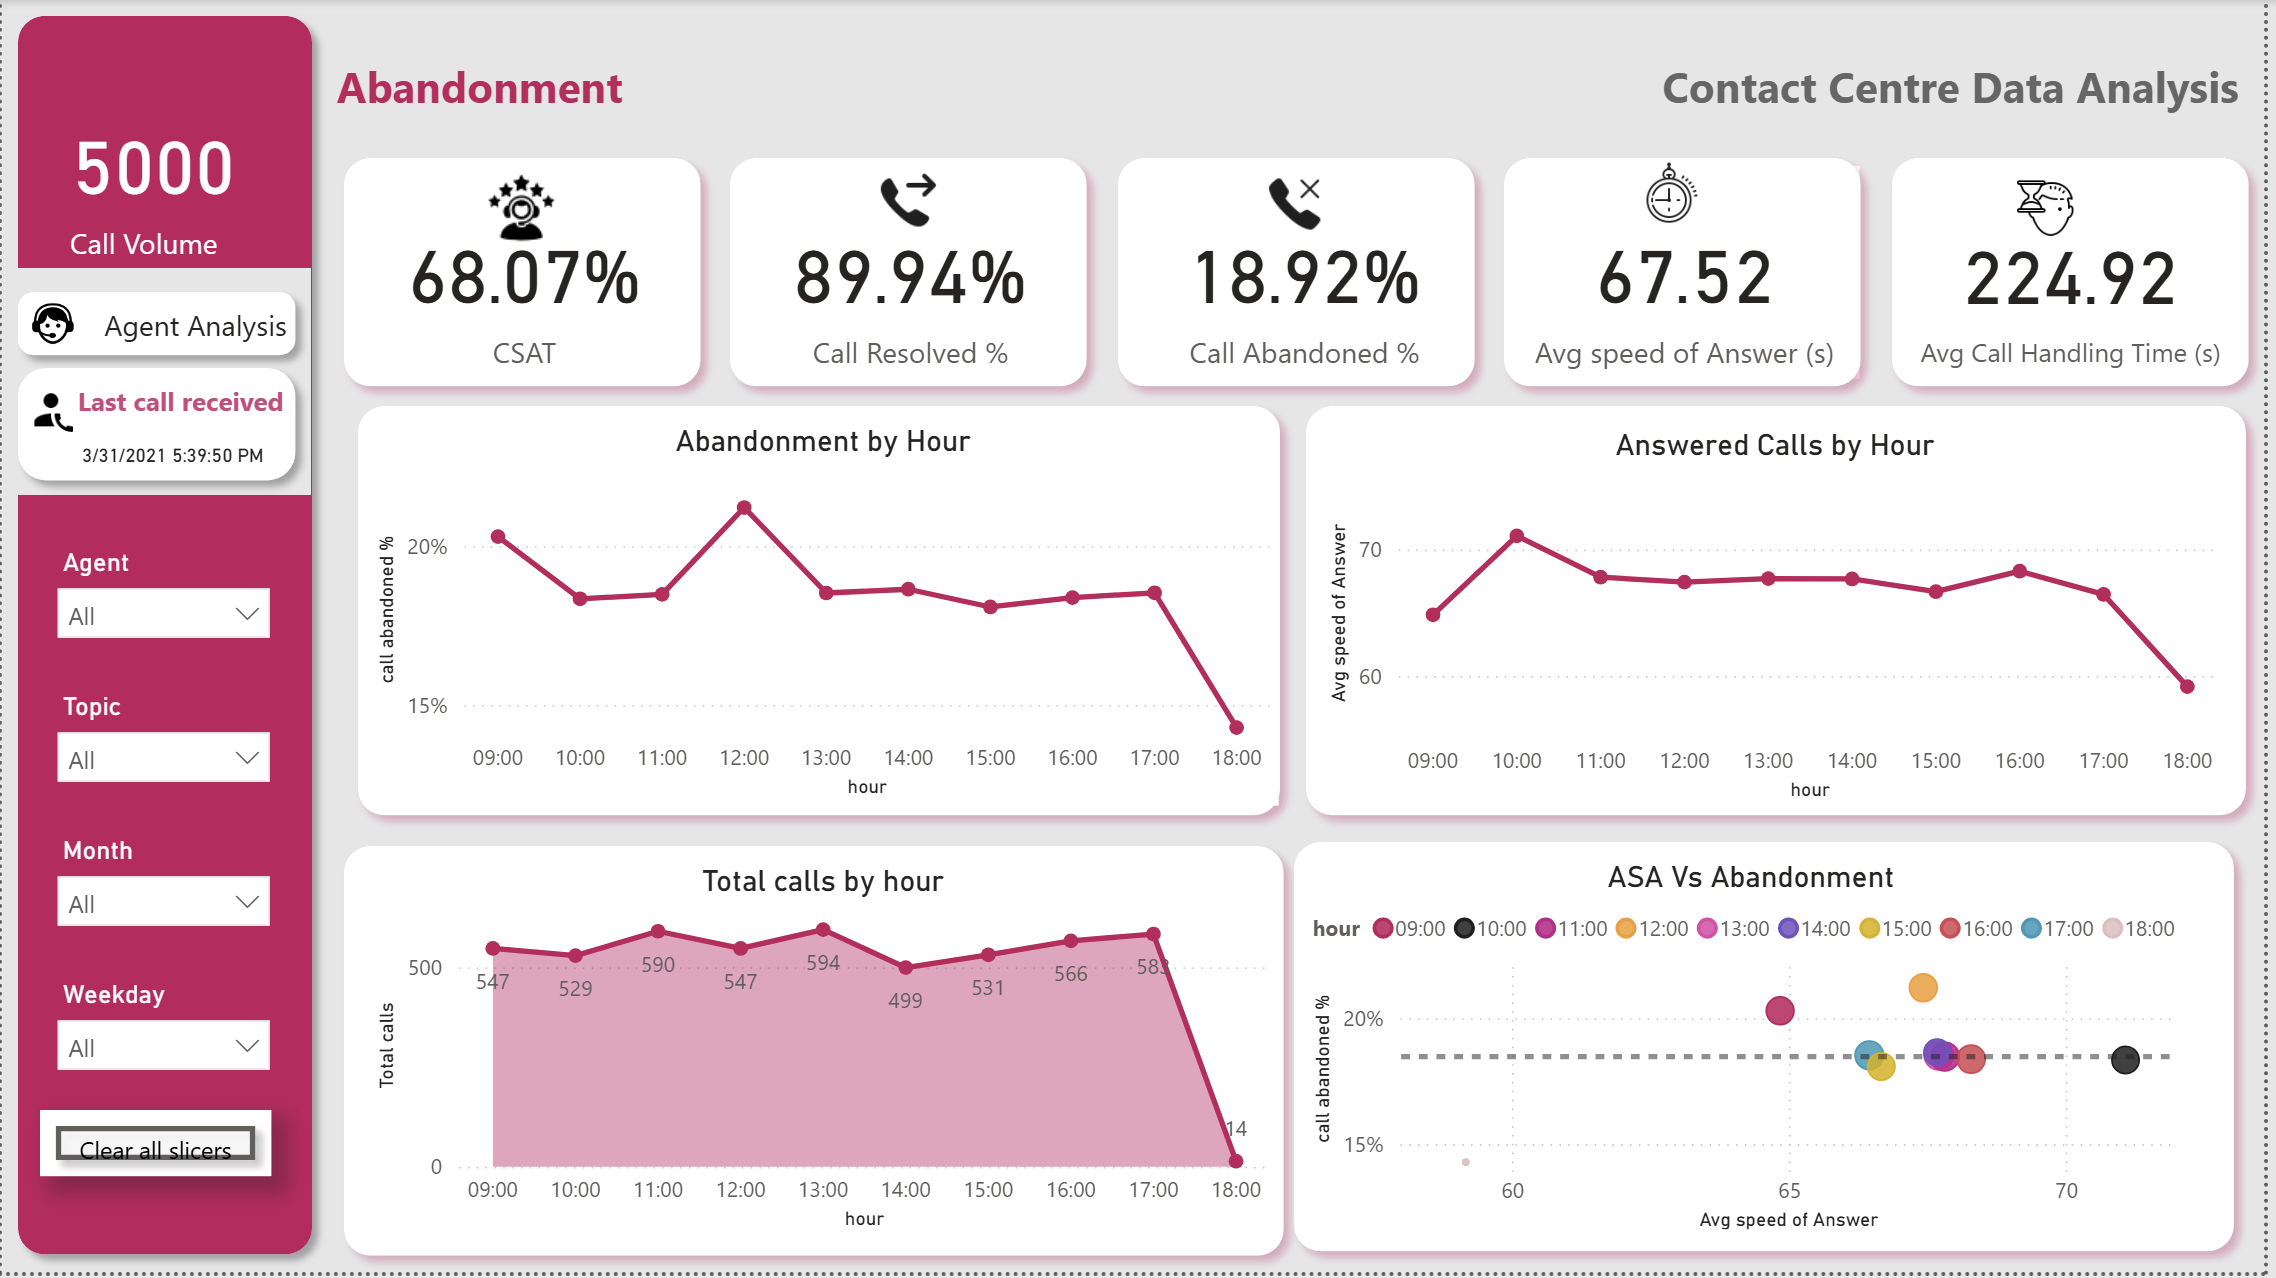

The page's visual inventory and layout, read from the dashboard file:
{"tool":"powerbi","page":{"name":"Abandonement Deep Dive","canvas":[1280,720],"ordinal":2},"visuals":[{"type":"group","id":"g1","title":"BG","box":[0,0,1280,720],"z":0},{"type":"shape","box":[0,0,184.5,719],"z":0,"group":"g1"},{"type":"shape","box":[184,79.9,220,147.2],"z":0,"group":"g4"},{"type":"cardVisual","fields":{"Data":["measures_table.CSAT"]},"box":[186.8,118.1,218.2,106.9],"z":0,"group":"g3"},{"type":"slicer","fields":{"Values":["01 Call-Center-Dataset.agent"]},"box":[21.4,304.9,140,80],"z":0,"group":"g2"},{"type":"shape","box":[403,79.9,220,147.2],"z":1000,"group":"g4"},{"type":"cardVisual","fields":{"Data":["measures_table.call resolved %"]},"box":[405,118.1,218.2,106.9],"z":1000,"group":"g3"},{"type":"shape","title":"Agent Performance","box":[192.4,220.5,540,249.8],"z":1000,"group":"g1"},{"type":"lineChart","title":"Abandonment by Hour","fields":{"Category":["01 Call-Center-Dataset.hour"],"Y":["measures_table.call abandoned %"]},"box":[207,239.6,515.2,216],"z":1000},{"type":"slicer","fields":{"Values":["01 Call-Center-Dataset.topic"]},"box":[21.4,386.3,140,80],"z":1000,"group":"g2"},{"type":"cardVisual","fields":{"Data":["measures_table.Total calls"]},"box":[21.4,66.4,142.9,85.5],"z":2000,"group":"g1"},{"type":"cardVisual","fields":{"Data":["measures_table.Avg speed of Answer"]},"box":[856.7,93.4,194.6,120.4],"z":2000,"group":"g4"},{"type":"cardVisual","fields":{"Data":["measures_table.call abandoned %"]},"box":[627.8,118.1,218.2,106.9],"z":2000,"group":"g3"},{"type":"cardVisual","fields":{"Data":["measures_table.last call"]},"box":[28.1,239.6,142.9,27],"z":2000},{"type":"slicer","fields":{"Values":["01 Call-Center-Dataset.day"]},"box":[21.4,549,140,80],"z":2000,"group":"g2"},{"type":"textbox","box":[184.5,26.9,429.8,52.6],"z":3000,"group":"g1"},{"type":"shape","box":[622,79.9,220,147.2],"z":3000,"group":"g4"},{"type":"cardVisual","fields":{"Data":["measures_table.Avg speed of Answer"]},"box":[843.8,118.1,218.2,106.9],"z":3000,"group":"g3"},{"type":"group","id":"g2","title":"Slicers","box":[21.4,304.9,139.5,324],"z":3000},{"type":"slicer","fields":{"Values":["01 Call-Center-Dataset.month"]},"box":[21.4,467.7,140,80],"z":3000,"group":"g2"},{"type":"textbox","box":[894.4,27,376.9,52.9],"z":4000,"group":"g1"},{"type":"shape","box":[841,79.9,220,147.2],"z":4000,"group":"g4"},{"type":"group","id":"g3","title":"kpi","box":[186.8,118.1,1093.5,106.9],"z":4000},{"type":"cardVisual","fields":{"Data":["measures_table.avg call handling time"]},"box":[1062,118.1,218.2,106.9],"z":4000,"group":"g3"},{"type":"group","id":"g4","title":"Group 1","box":[184,79.9,1096,147.2],"z":5000,"group":"g1"},{"type":"shape","box":[1060,79.9,220,147.2],"z":5000,"group":"g4"},{"type":"actionButton","box":[21,628.3,130.8,37.4],"z":5000},{"type":"shape","box":[729,220.5,550.1,249.8],"z":6000,"group":"g1"},{"type":"scatterChart","title":"ASA Vs Abandonment","fields":{"Y":["measures_table.call abandoned %"],"Series":["01 Call-Center-Dataset.hour"],"X":["measures_table.Avg speed of Answer"],"Size":["measures_table.Total calls"]},"box":[736.9,486.8,505.9,214.1],"z":6000},{"type":"shape","box":[184,470,550,250],"z":7000,"group":"g1"},{"type":"lineChart","fields":{"Category":["01 Call-Center-Dataset.hour"],"Y":["measures_table.Total calls"]},"box":[206.7,489.3,515,211.4],"z":7000},{"type":"lineChart","title":"Answered Calls by Hour","fields":{"Category":["01 Call-Center-Dataset.hour"],"Y":["measures_table.Avg speed of Answer"]},"box":[745.9,242.3,514.9,215.2],"z":8000},{"type":"shape","box":[722.2,468,550.1,249.8],"z":9000,"group":"g1"},{"type":"shape","box":[7.9,152.3,167,128.7],"z":10000,"group":"g1"},{"type":"shape","box":[0,199.3,175.1,81.7],"z":11000,"group":"g1"},{"type":"shape","box":[0,156.2,175.1,53.9],"z":12000,"group":"g1"},{"type":"textbox","box":[28.1,211.5,136.1,30.4],"z":13000,"group":"g1"},{"type":"image","box":[10.1,213.8,34.9,36],"z":14000,"group":"g1"},{"type":"textbox","box":[9.8,167,156.2,32.4],"z":15000,"group":"g1"},{"type":"image","title":"Agent","box":[8.8,166,39.3,33.4],"z":16000,"group":"g1"},{"type":"image","box":[262.5,90.5,62.5,53.4],"z":17000,"group":"g1"},{"type":"image","box":[482.5,89.6,58.8,48.9],"z":18000,"group":"g1"},{"type":"image","box":[708.3,94.1,46.2,43.2],"z":19000,"group":"g1"},{"type":"image","box":[922.5,85.5,43.9,46.1],"z":20000,"group":"g1"},{"type":"image","box":[1135.2,95,42.5,46.2],"z":21000,"group":"g1"}]}

Visuals, with their boxes in screenshot pixels (x1, y1, x2, y2), scaled from the page's 1280x720 canvas onto the 2276x1278 screenshot:
"BG" group: [0, 0, 2275, 1277]
shape: [0, 0, 328, 1276]
shape: [327, 142, 718, 403]
cardVisual - measures_table.CSAT: [332, 210, 720, 399]
slicer - 01 Call-Center-Dataset.agent: [38, 541, 287, 683]
shape: [717, 142, 1108, 403]
cardVisual - measures_table.call resolved %: [720, 210, 1108, 399]
"Agent Performance" shape: [342, 391, 1302, 835]
"Abandonment by Hour" lineChart: [368, 425, 1284, 809]
slicer - 01 Call-Center-Dataset.topic: [38, 686, 287, 828]
cardVisual - measures_table.Total calls: [38, 118, 292, 270]
cardVisual - measures_table.Avg speed of Answer: [1523, 166, 1869, 379]
cardVisual - measures_table.call abandoned %: [1116, 210, 1504, 399]
cardVisual - measures_table.last call: [50, 425, 304, 473]
slicer - 01 Call-Center-Dataset.day: [38, 974, 287, 1116]
textbox: [328, 48, 1092, 141]
shape: [1106, 142, 1497, 403]
cardVisual - measures_table.Avg speed of Answer: [1500, 210, 1888, 399]
"Slicers" group: [38, 541, 286, 1116]
slicer - 01 Call-Center-Dataset.month: [38, 830, 287, 972]
textbox: [1590, 48, 2261, 142]
shape: [1495, 142, 1887, 403]
"kpi" group: [332, 210, 2275, 399]
cardVisual - measures_table.avg call handling time: [1888, 210, 2275, 399]
"Group 1" group: [327, 142, 2275, 403]
shape: [1885, 142, 2275, 403]
actionButton: [37, 1115, 270, 1182]
shape: [1296, 391, 2274, 835]
"ASA Vs Abandonment" scatterChart: [1310, 864, 2210, 1244]
shape: [327, 834, 1305, 1277]
lineChart - 01 Call-Center-Dataset.hour x measures_table.Total calls: [368, 869, 1283, 1244]
"Answered Calls by Hour" lineChart: [1326, 430, 2242, 812]
shape: [1284, 831, 2262, 1274]
shape: [14, 270, 311, 499]
shape: [0, 354, 311, 499]
shape: [0, 277, 311, 373]
textbox: [50, 375, 292, 429]
image: [18, 379, 80, 443]
textbox: [17, 296, 295, 354]
"Agent" image: [16, 295, 86, 354]
image: [467, 161, 578, 255]
image: [858, 159, 962, 246]
image: [1259, 167, 1342, 244]
image: [1640, 152, 1718, 234]
image: [2019, 169, 2094, 251]
